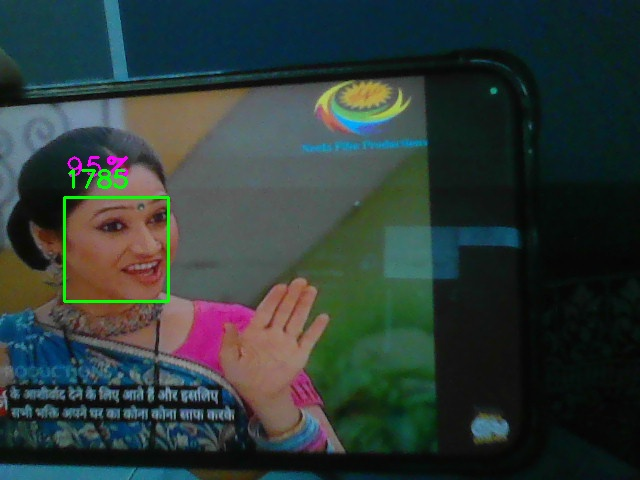fake: (64, 197, 169, 302)
